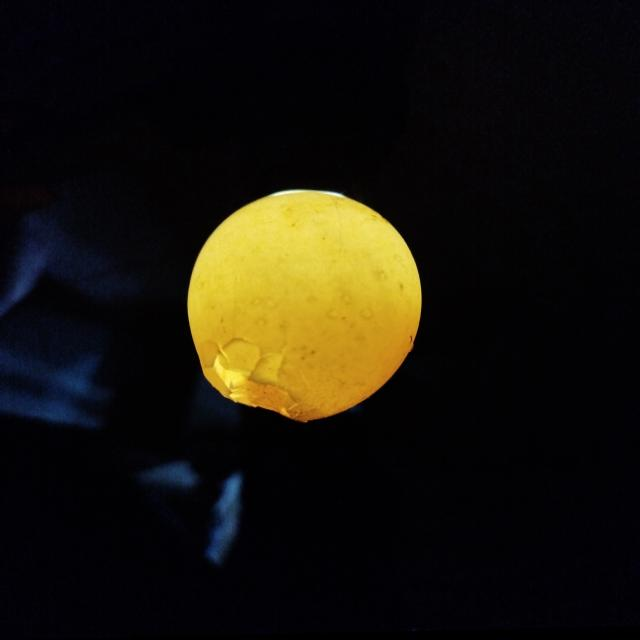Rachadura: (197, 338, 301, 424)
